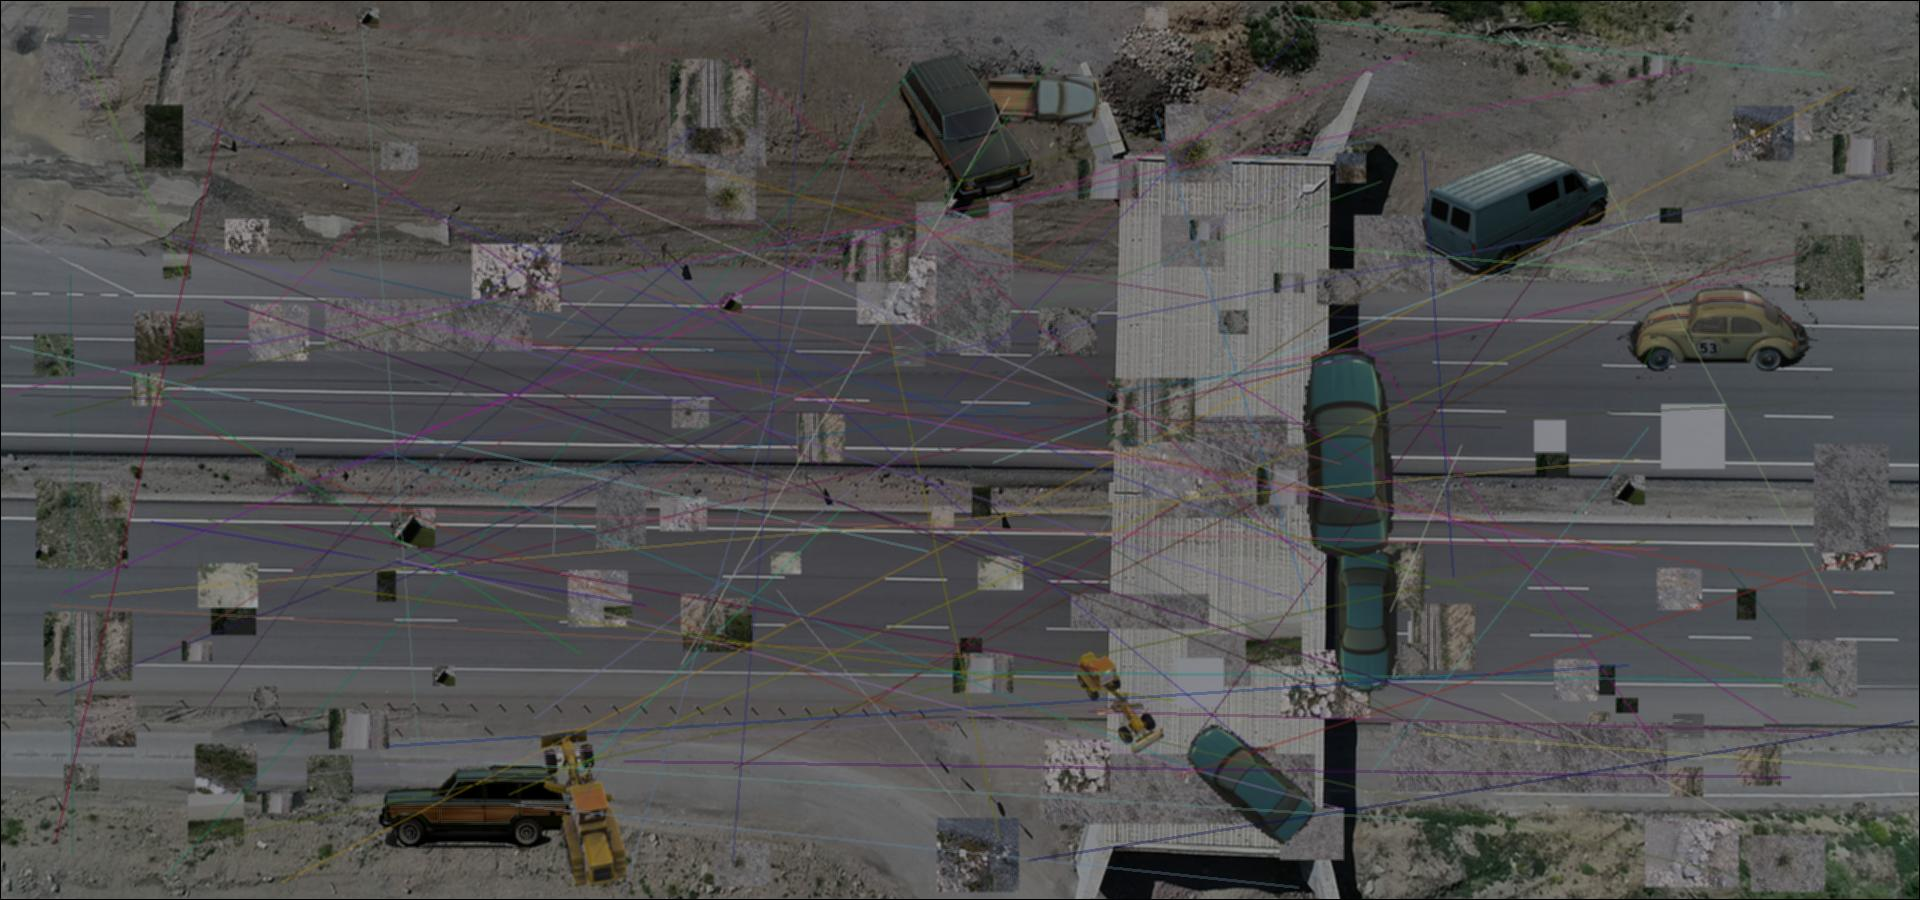arac: (1422, 146, 1609, 276), (1299, 347, 1401, 560), (894, 55, 1036, 200), (1618, 284, 1818, 380), (372, 763, 576, 855), (1183, 721, 1316, 845), (536, 726, 633, 891), (1071, 650, 1169, 757), (1333, 547, 1402, 697), (984, 69, 1101, 131)
